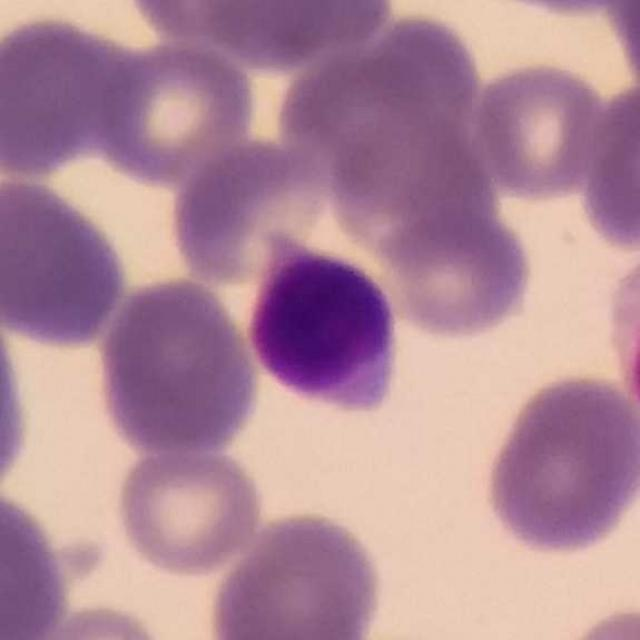Lymphocyte: (240, 226, 410, 422)
RBC: (276, 17, 481, 178), (91, 274, 264, 460), (477, 368, 640, 560), (323, 99, 492, 256), (166, 136, 334, 287), (89, 35, 258, 184), (205, 506, 388, 640), (378, 199, 538, 344), (0, 172, 131, 349), (0, 9, 135, 180), (110, 442, 267, 580), (470, 56, 613, 202), (188, 0, 397, 69), (577, 76, 640, 252), (0, 485, 72, 639), (0, 266, 35, 516), (119, 0, 295, 49), (600, 229, 640, 435), (11, 599, 178, 640), (445, 0, 634, 23), (548, 600, 640, 640), (603, 0, 640, 90)
